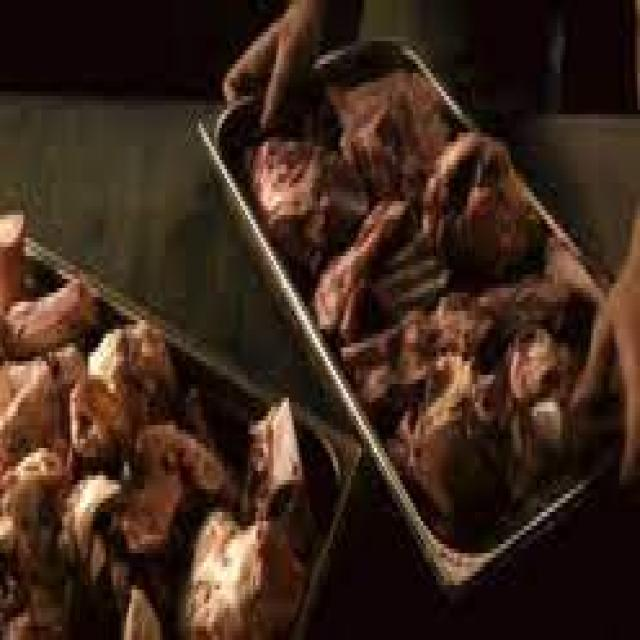Organik: (2, 4, 640, 640), (246, 114, 609, 556), (0, 210, 293, 640)
